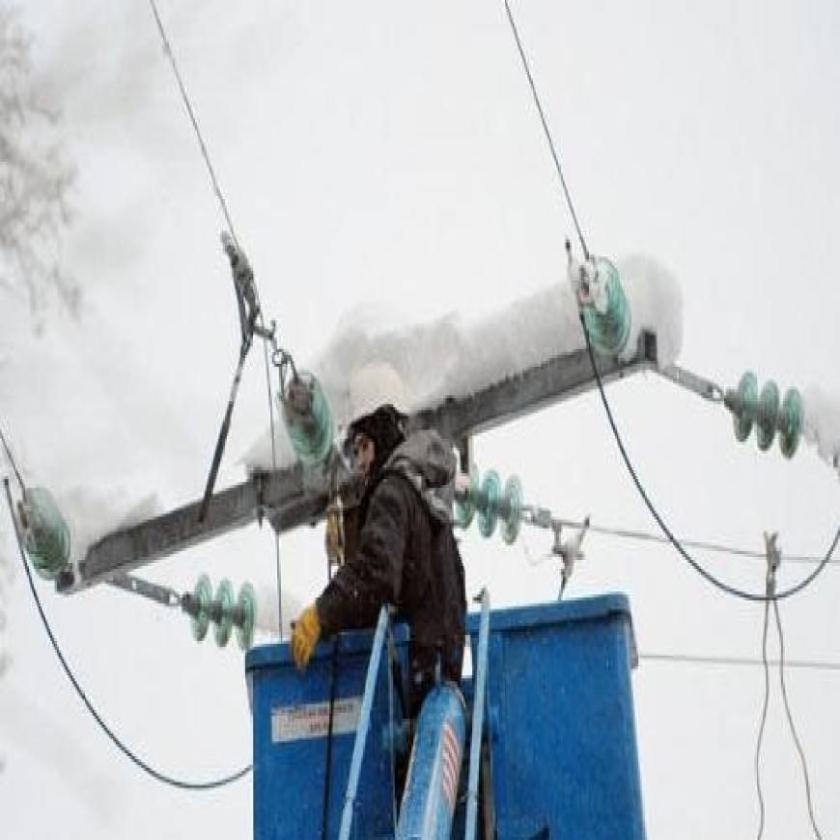Con_casco: (339, 353, 418, 476)
